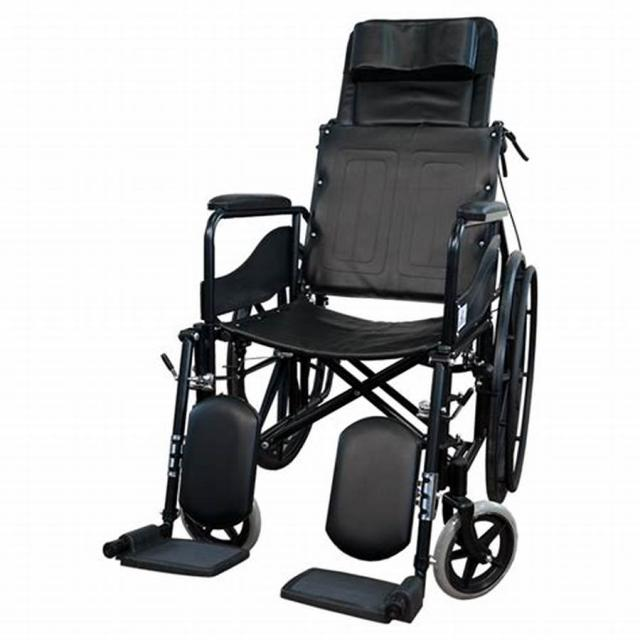wheelchairs: (130, 8, 533, 630)
